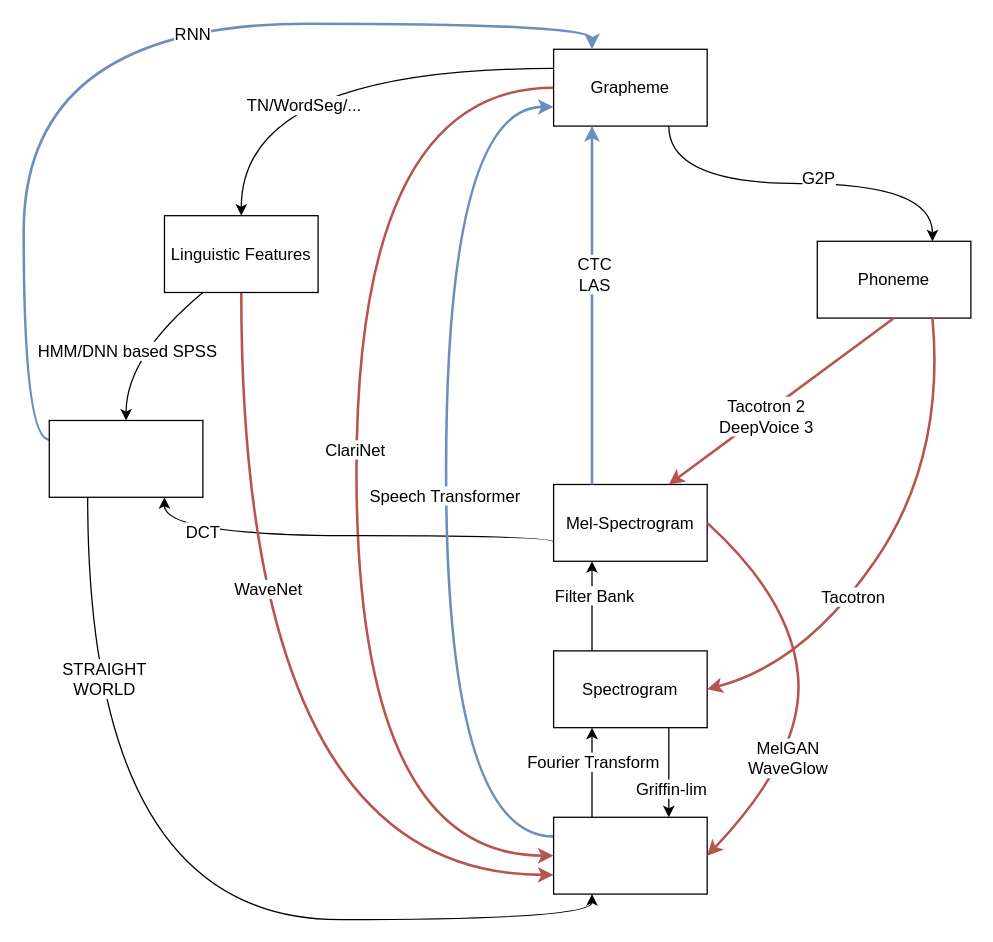
Image size: 993x942. Some labels were removed from this diagram. The shapes that lost their labels are listed below. From the top down, each one's centre as x and y in pixels, then its label:
At point 125,458: "MFCC/...".
At point 629,855: "Waveform".
